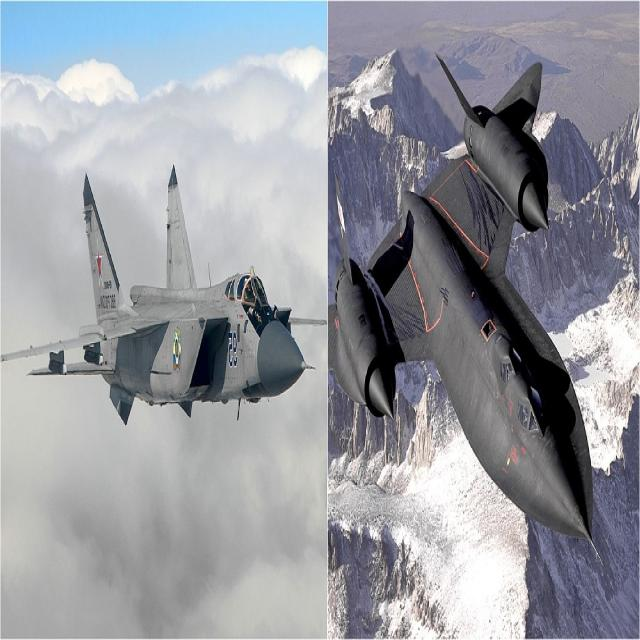MIL_Plane: (328, 52, 604, 568), (1, 164, 327, 426)
